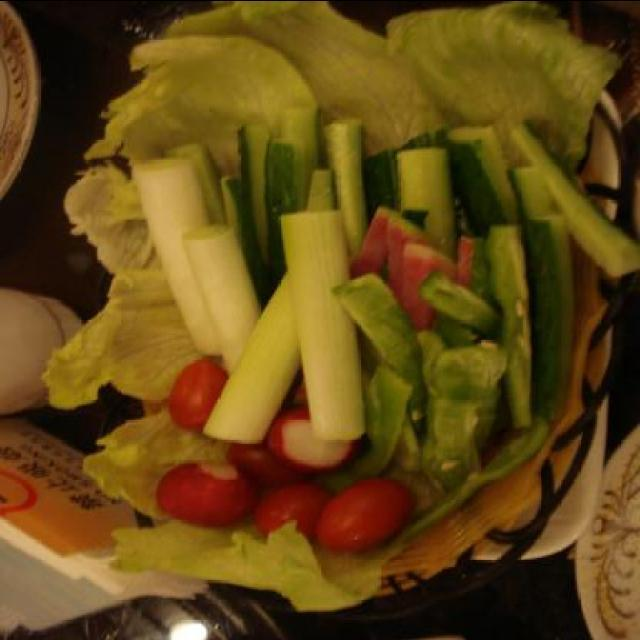Tomato: (310, 481, 412, 557), (154, 458, 255, 526), (266, 406, 354, 474), (220, 438, 302, 498), (251, 484, 329, 540), (164, 355, 224, 427)
